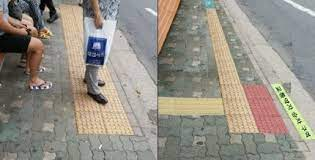guide_blocks: (71, 65, 133, 135), (223, 84, 287, 135), (60, 5, 105, 64), (217, 69, 255, 134), (205, 8, 232, 66), (159, 97, 223, 115)
